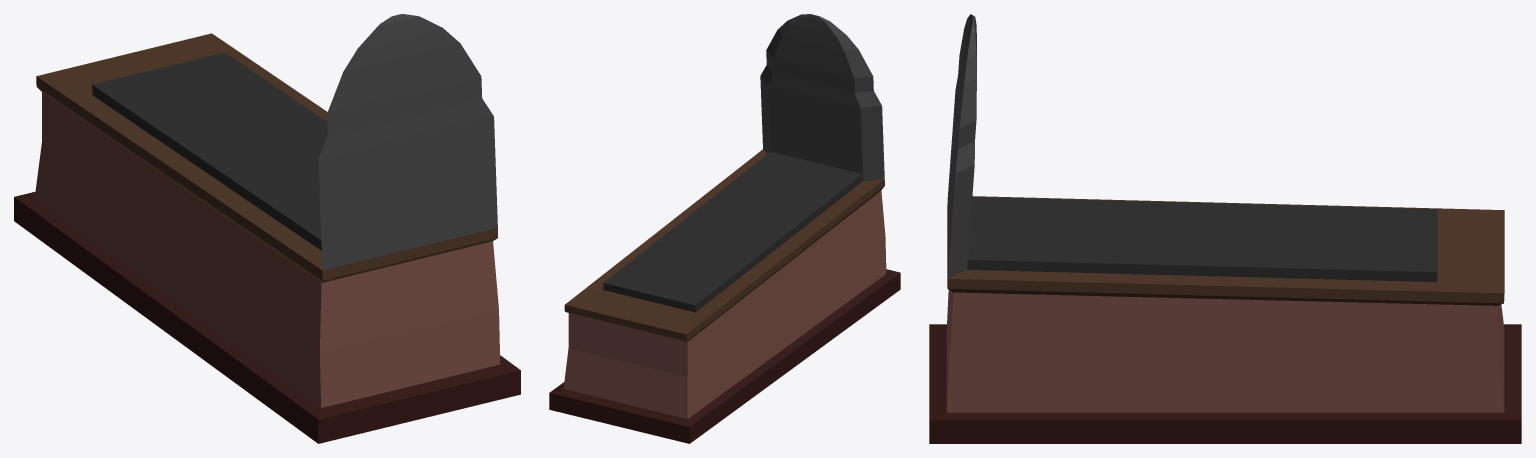
File: Caixao3.fbx
3 views of the same model, side by side, from view 1: azimuth 30°, elevation 25°; view 2: azimuth 150°, elevation 25°; view 3: azimuth 270°, elevation 25° (orthographic). The views are drawn at different scales.
Visible parts, largest first — view 1: Tumba; view 2: Tumba; view 3: Tumba.
Part boxes in pixels (<box>): Tumba: <box>14,14,520,443</box>; Tumba: <box>549,14,900,443</box>; Tumba: <box>929,14,1521,443</box>.
Size of the model in its own units: 200 by 366 by 521.
